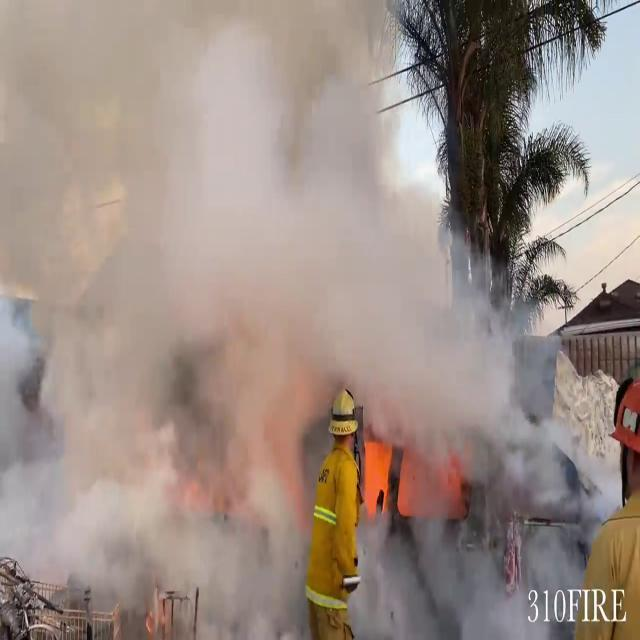Smoke: (0, 0, 588, 631)
